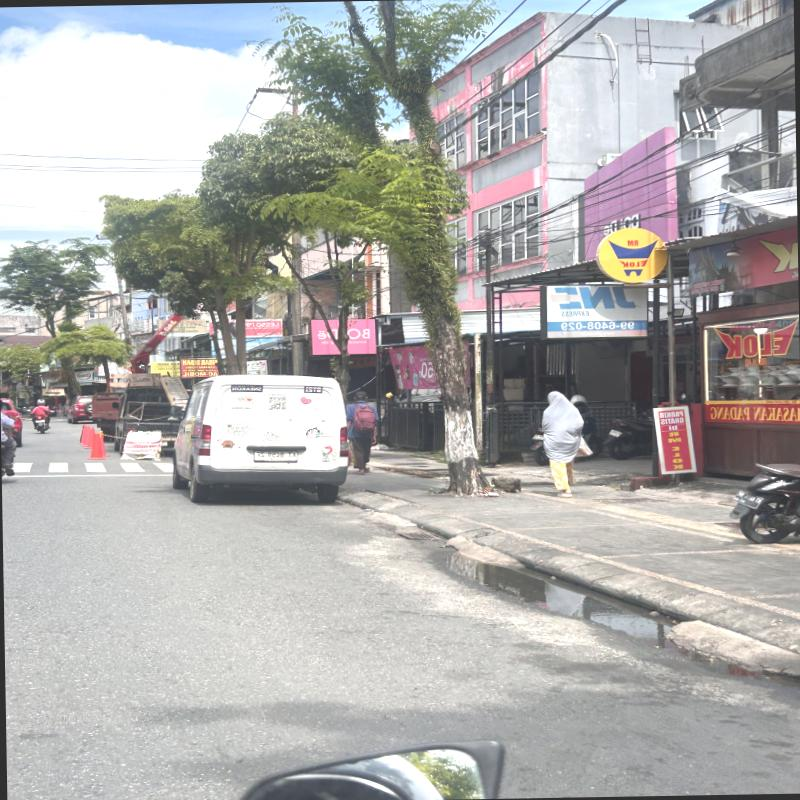license plate on a car: (254, 450, 297, 462)
